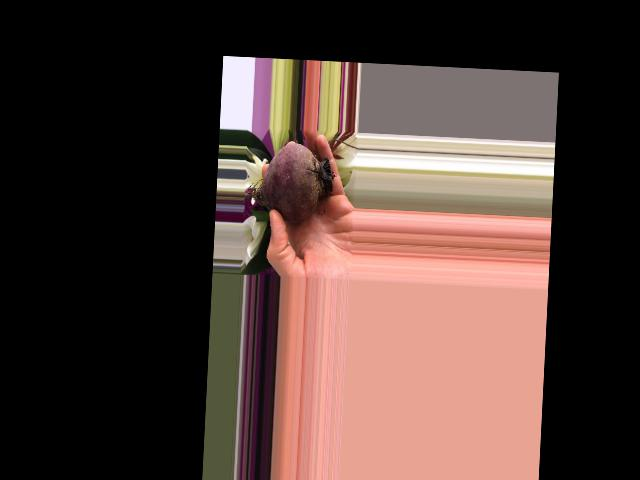beet: (243, 140, 338, 224)
